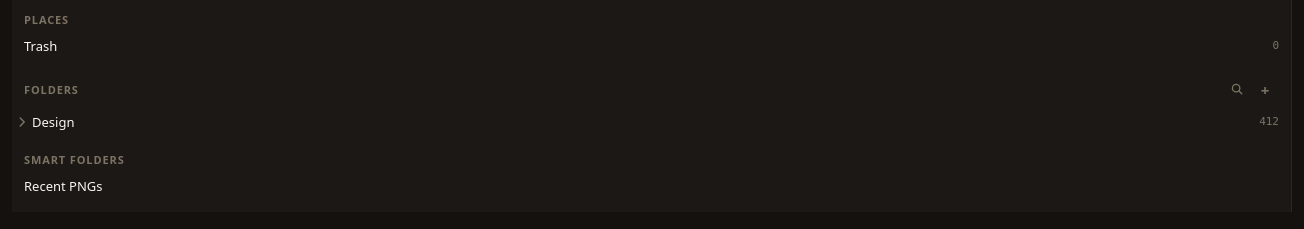
Test: the navigation pane › draws Empty trash dead while the trash is empty
Right-click the button "Trash 0" at (41,46), box [12,32,1291,60]
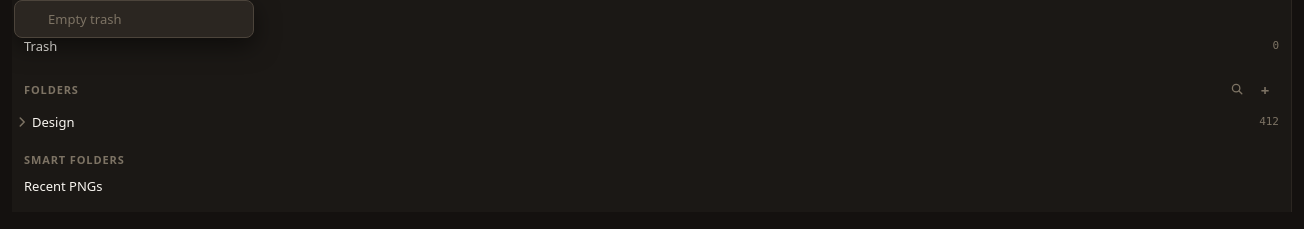
expect the menu is shown: met, box [14,0,254,38]
